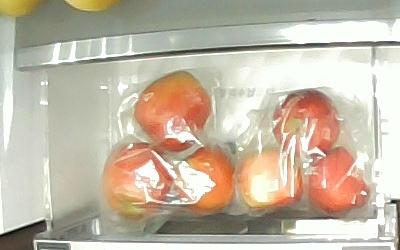apple_vinyl: (132, 68, 212, 152), (100, 138, 174, 219), (270, 87, 340, 157), (305, 145, 371, 215), (173, 142, 234, 214), (235, 147, 304, 210)
